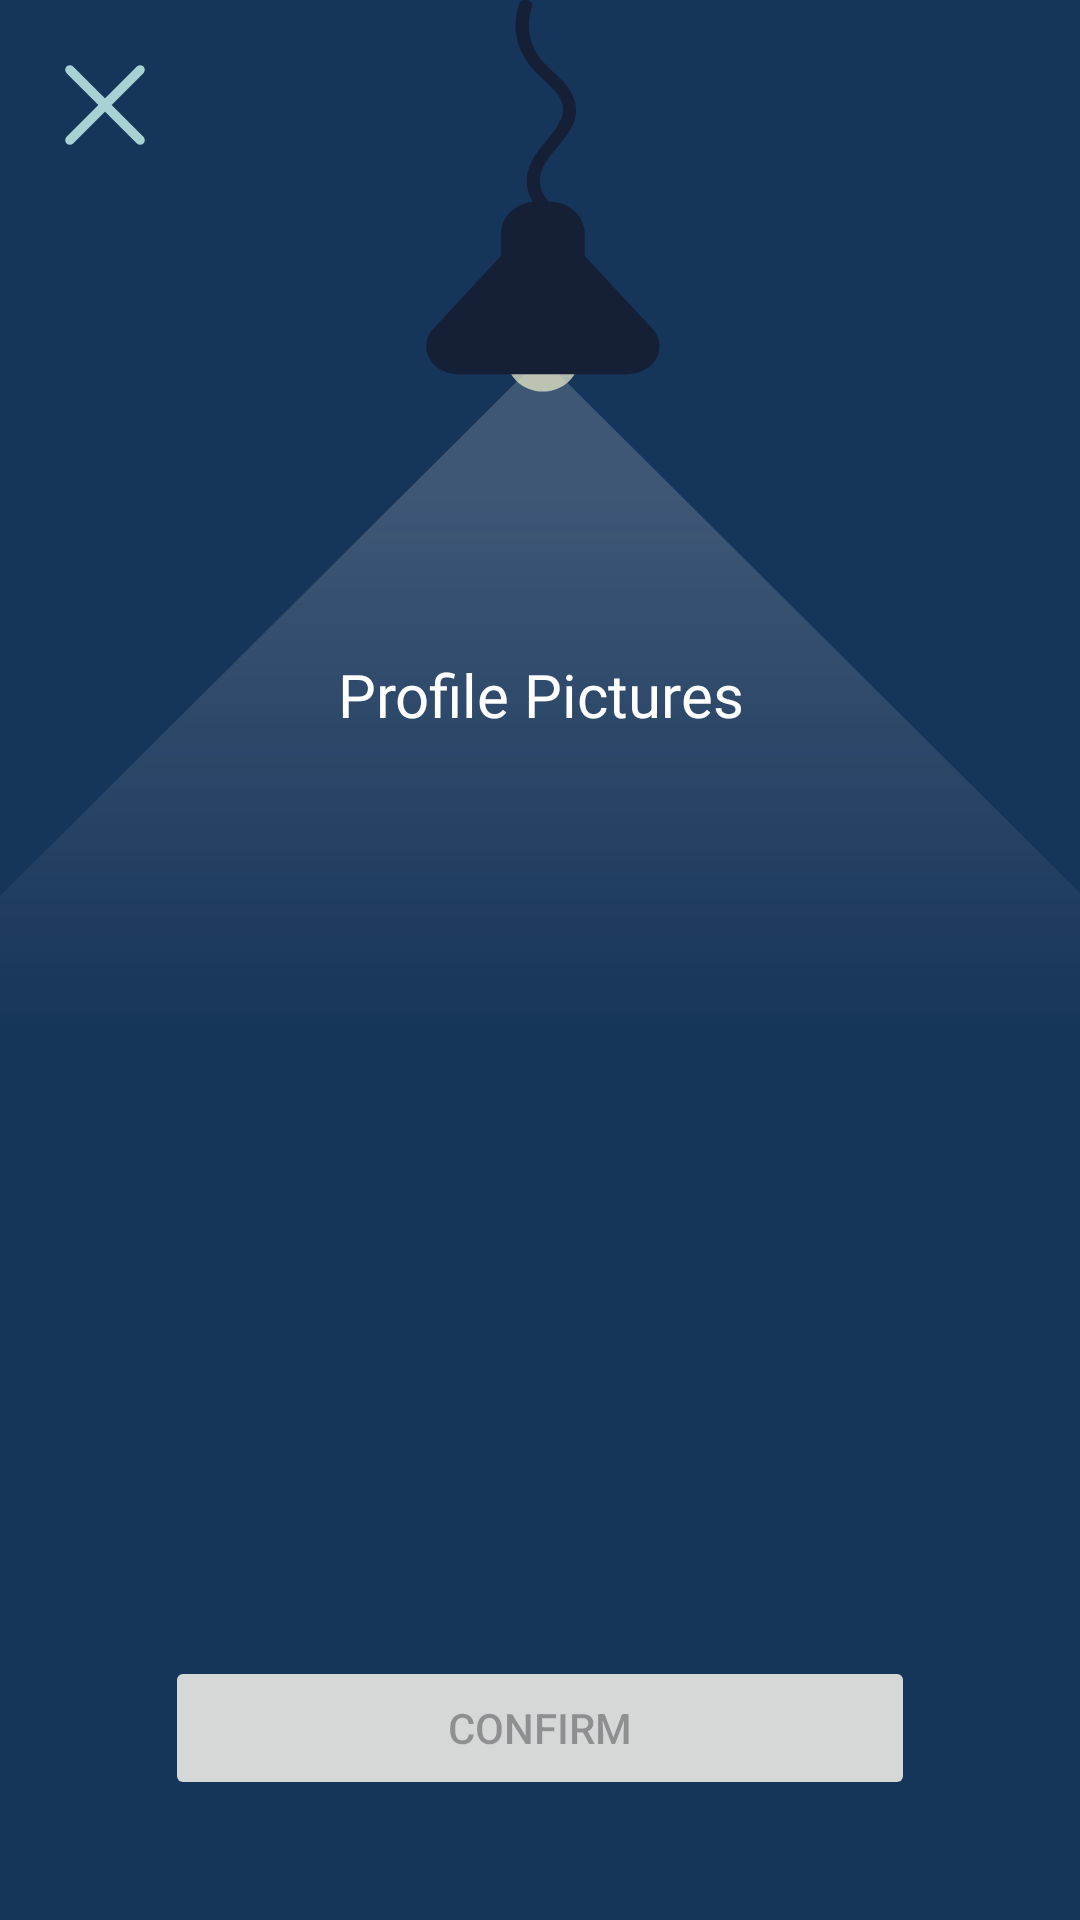

Icon bounding boxes for this 1080x1920 phone screenshot, format (x1, y1, x2, y2):
exit: (65, 65, 145, 145)
